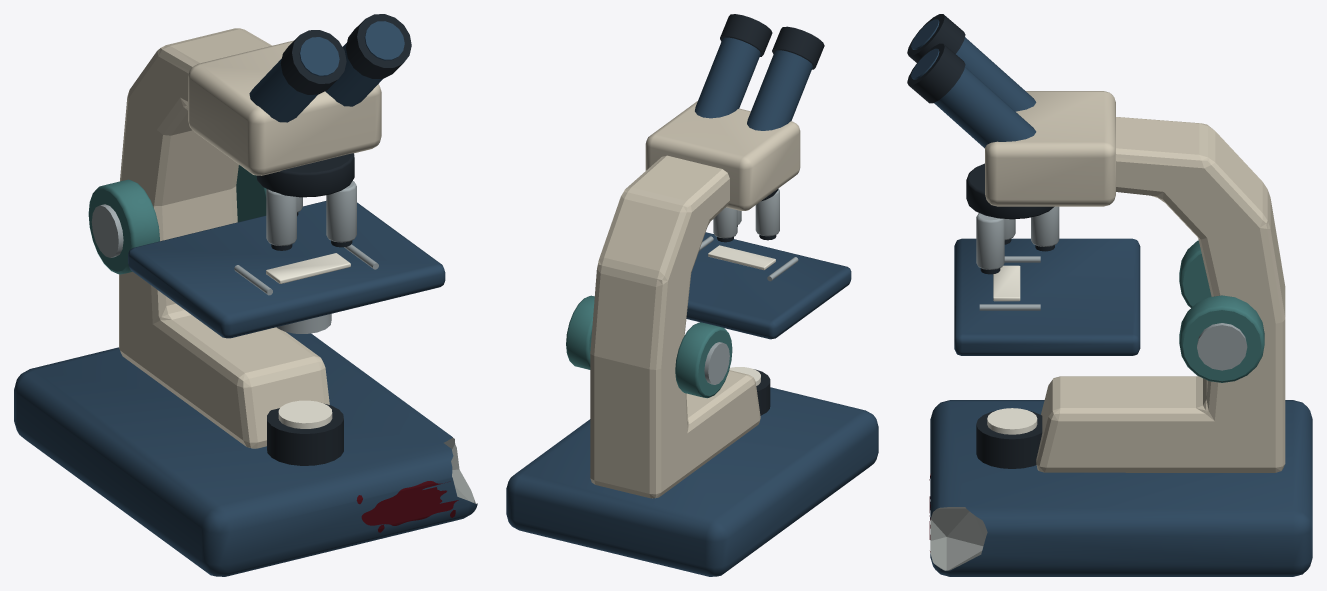
File: lab_microscope.glb
The picture shows the model from 3 angles, left to right: view 1: azimuth 30°, elevation 25°; view 2: azimuth 150°, elevation 25°; view 3: azimuth 270°, elevation 25°; orthographic projection. The views are drawn at different scales.
Visible parts, largest first — view 1: Static_Shell_Mesh; view 2: Static_Shell_Mesh; view 3: Static_Shell_Mesh.
Boxes of the visible parts, <box> form: Static_Shell_Mesh: <box>14,14,477,576</box>; Static_Shell_Mesh: <box>506,14,878,576</box>; Static_Shell_Mesh: <box>907,14,1312,576</box>.
Bounding box in the file's own units: 0.27 × 0.4941 × 0.3712.
